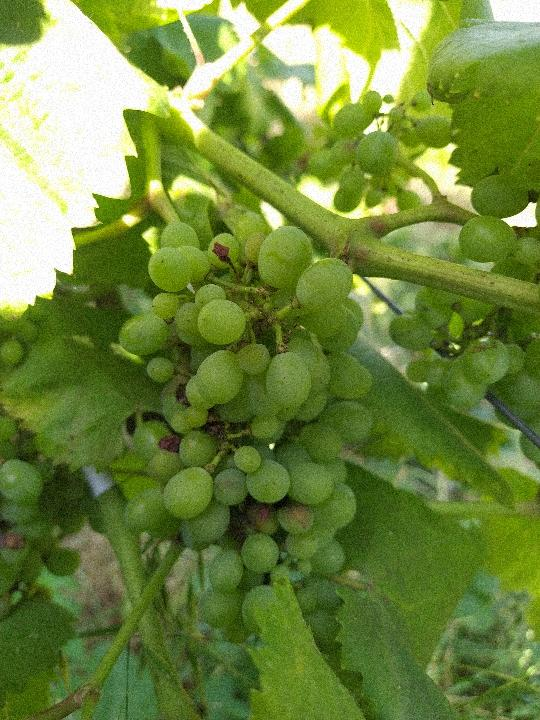grape: (118, 210, 380, 657)
